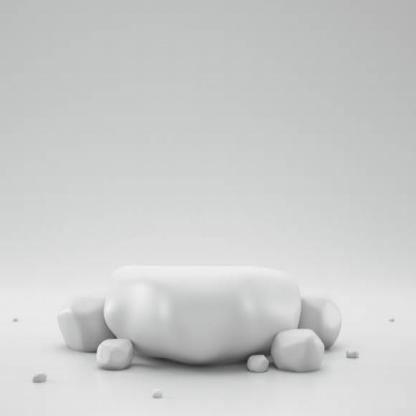Metamorphic_Marble: (103, 269, 303, 361), (54, 302, 120, 350), (272, 322, 328, 375)
